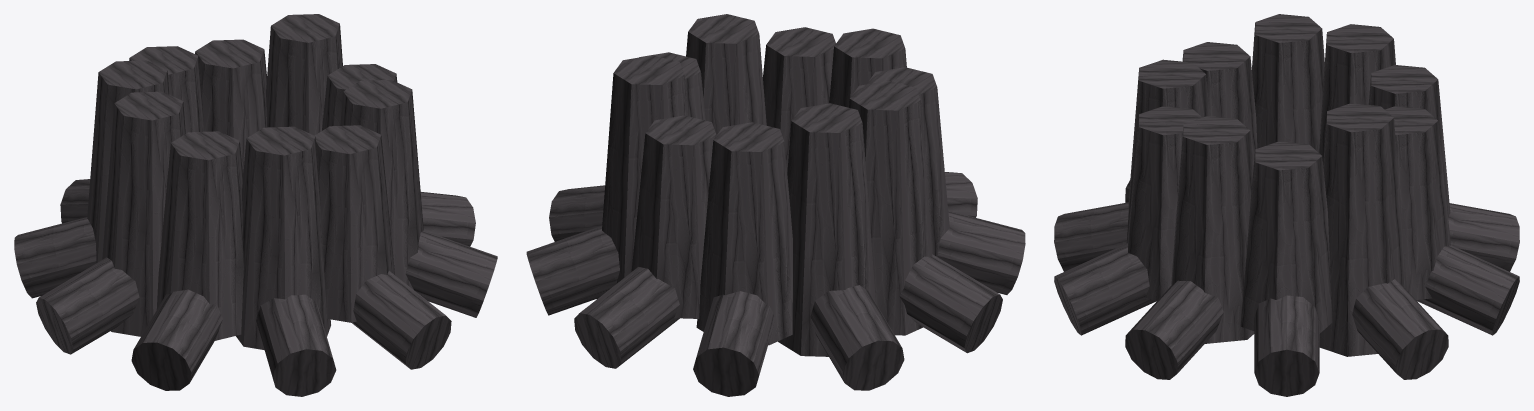
Rendered from Hollow_Stump_Barren.glb.
3 renders of one model, left to right at view 1: azimuth 30°, elevation 25°; view 2: azimuth 150°, elevation 25°; view 3: azimuth 270°, elevation 25°, orthographic. The views are drawn at different scales.
Parts seen in each view (by area): view 1: Structure; view 2: Structure; view 3: Structure.
Boxes of the visible parts, <box> form: Structure: <box>14,14,497,396</box>; Structure: <box>526,14,1025,396</box>; Structure: <box>1054,14,1519,396</box>.
Size of the model in its own units: 1.78 by 0.9271 by 1.72.
1 material, 1 textured.
